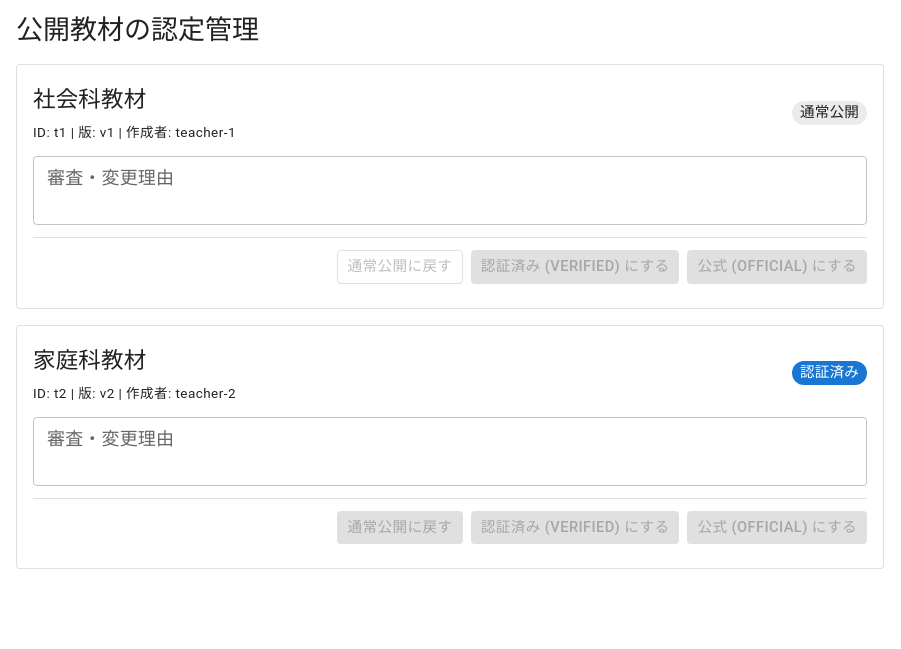
Test: OperatorTemplateCertificationsPage › displays row-level error message when certification action fails
Type "公式化リクエスト" into the text box labelled "審査・変更理由" below "t1".
click(450, 190); type("公式化リクエスト")  # box [47,164,853,216]
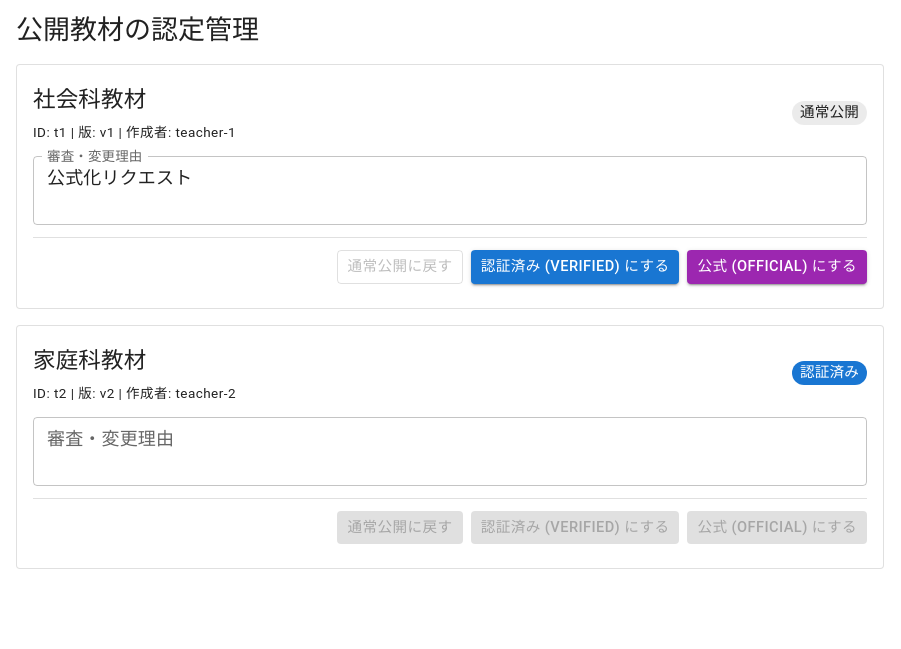
Click the 1st button "公式 (OFFICIAL) にする".
click(777, 267)  # box [688,250,867,284]
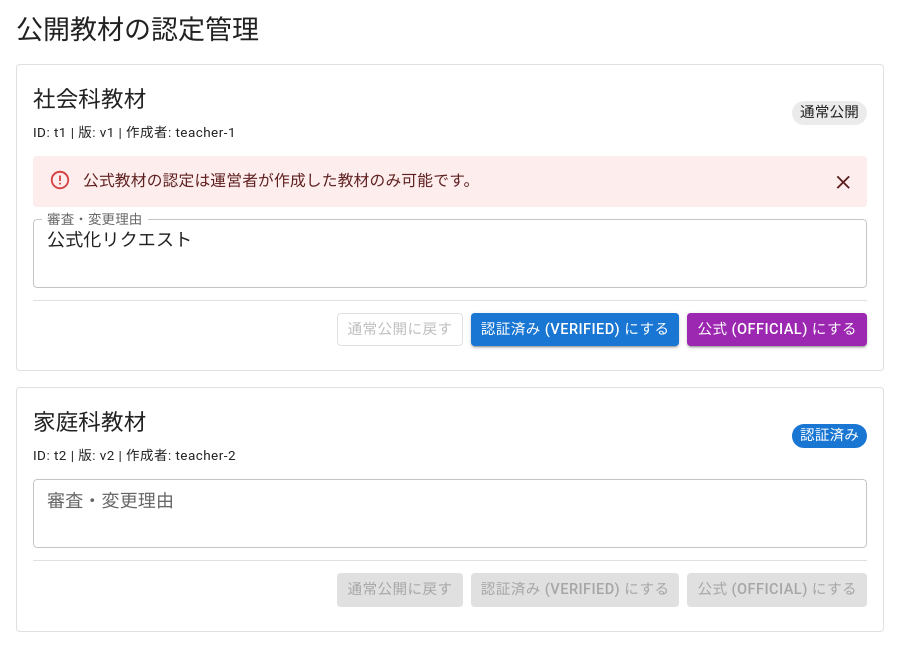
expect the text "公式教材の認定は運営者が作成した教材のみ可能です。" is shown: met, box [83,171,479,190]
